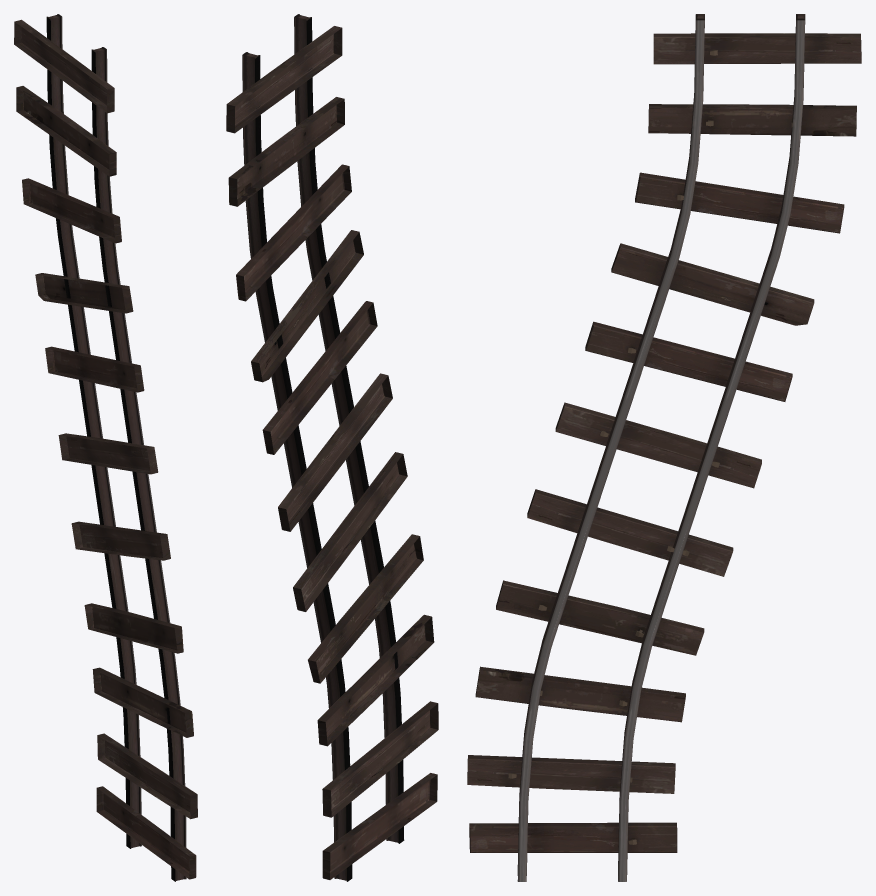
The model's file is props_mining_track_s_curve_48.glb.
3 renders of one model, left to right at view 1: azimuth 30°, elevation 25°; view 2: azimuth 150°, elevation 25°; view 3: azimuth 270°, elevation 25°, orthographic. The views are drawn at different scales.
Parts seen in each view (by area): view 1: models/props_mining/track_s_curve_48; view 2: models/props_mining/track_s_curve_48; view 3: models/props_mining/track_s_curve_48.
Part boxes in pixels (x1,y1,x2,y2): models/props_mining/track_s_curve_48: (14,14,197,881); models/props_mining/track_s_curve_48: (226,14,438,881); models/props_mining/track_s_curve_48: (467,14,861,881).
Size of the model in its own units: 6.69 by 256 by 106.
1 material, 1 textured.
